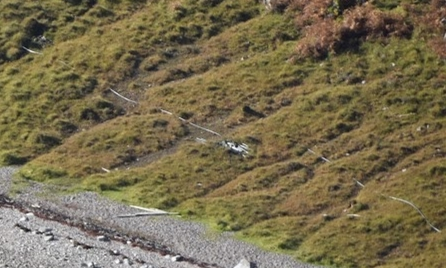straight_bar: (116, 202, 181, 221), (127, 197, 168, 213)
tube: (158, 105, 218, 135), (353, 175, 411, 205), (410, 202, 440, 233), (107, 83, 143, 105), (303, 144, 334, 165), (18, 43, 46, 56)
white_in_green: (210, 123, 266, 170)
